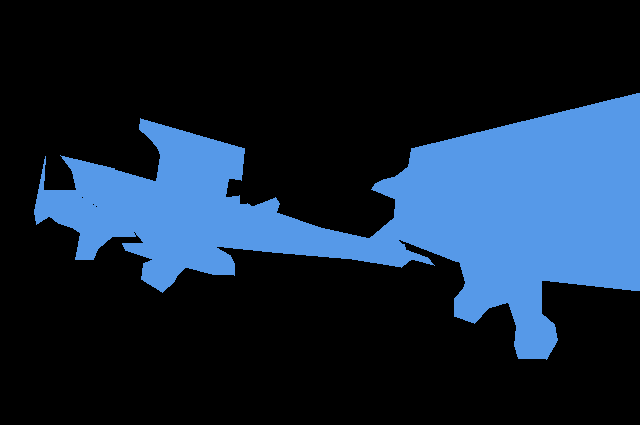Airplane: (371, 92, 640, 360), (81, 118, 435, 292), (34, 155, 136, 259)
